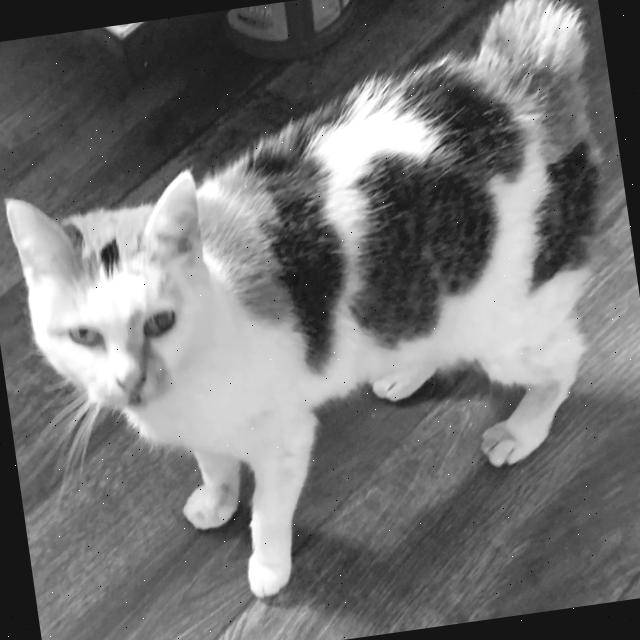manx_cat: (0, 153, 240, 439)
